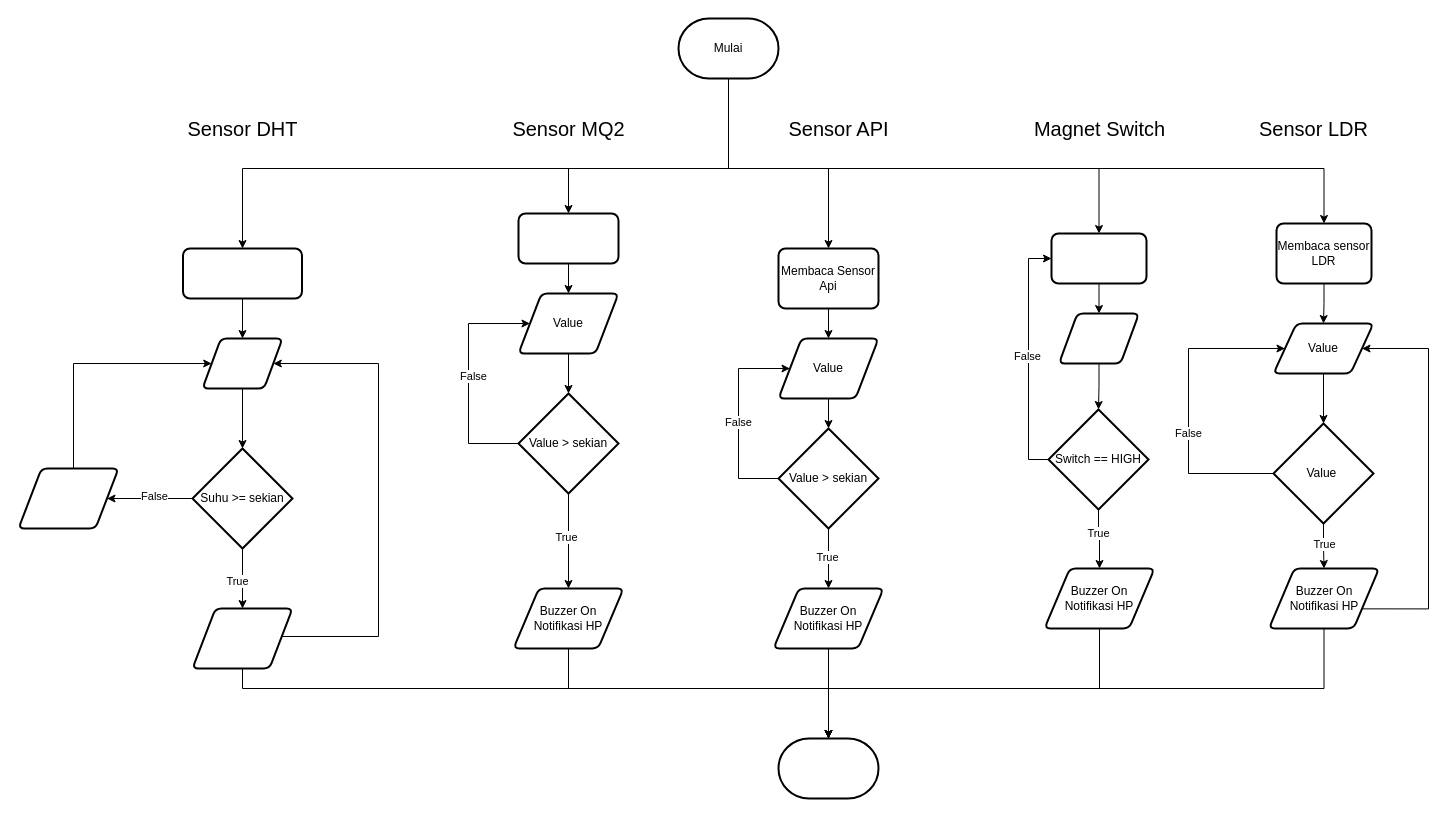
Some shapes in this 1454 by 816 pixel diagram are drawn without their labels. Here are the shapes that lost their labels. From the top down, the centre of each, then its label:
At [568,238]: "Membaca sensor MQ2".
At [1098,258]: "Baca keadaan Switch magnet".
At [242,273]: "Membaca sensor DHT".
At [1099,338]: "Boolean".
At [242,363]: "Suhu".
At [68,498]: "Kipas Off".
At [242,638]: "Kipas On".
At [828,768]: "Selesai".
